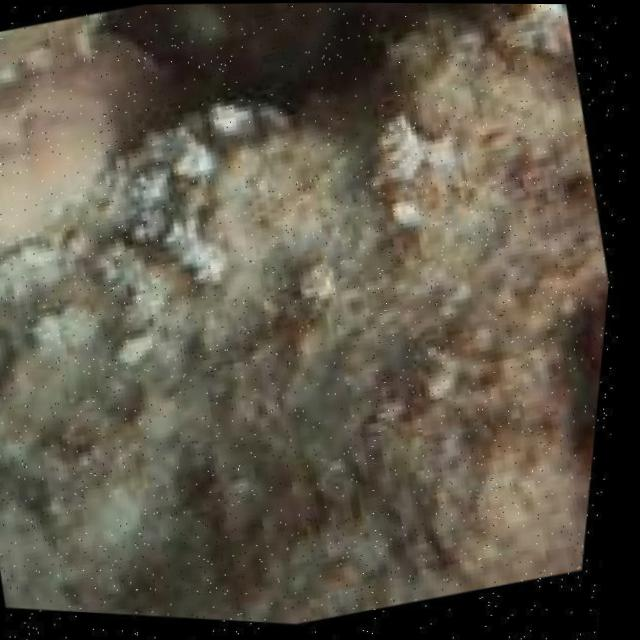Bleached Coral: (0, 80, 270, 355)
